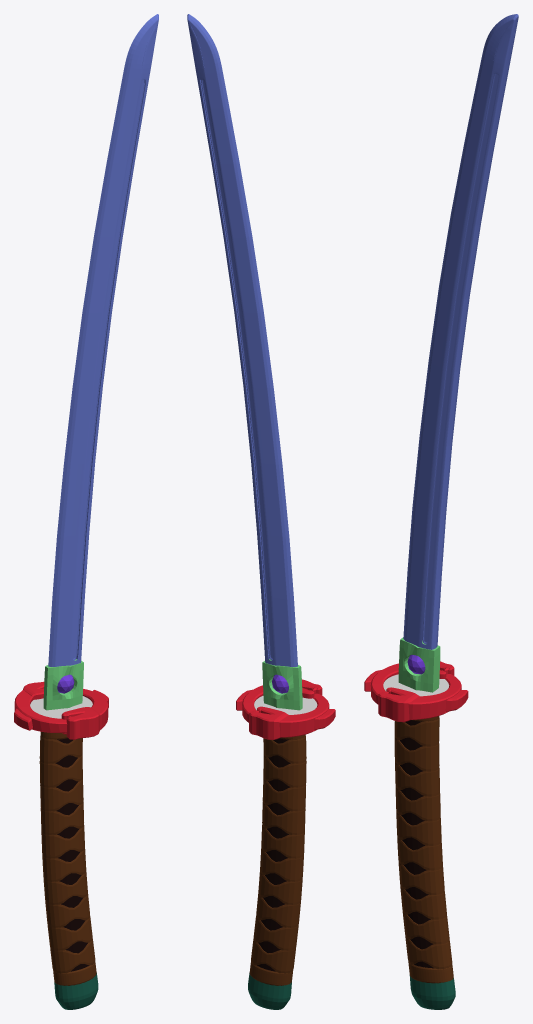
Rendered from KatanaCage.fbx.
3 renders of one model, left to right at view 1: azimuth 30°, elevation 25°; view 2: azimuth 150°, elevation 25°; view 3: azimuth 330°, elevation 25°, orthographic. The views are drawn at different scales.
Parts seen in each view (by area): view 1: Cage; view 2: Cage; view 3: Cage.
Part boxes in pixels (x1,y1,x2,y2): Cage: (14, 14, 158, 1009); Cage: (187, 14, 335, 1009); Cage: (364, 14, 518, 1009).
Bounding box in the file's own units: 78.64 × 514 × 48.92.
